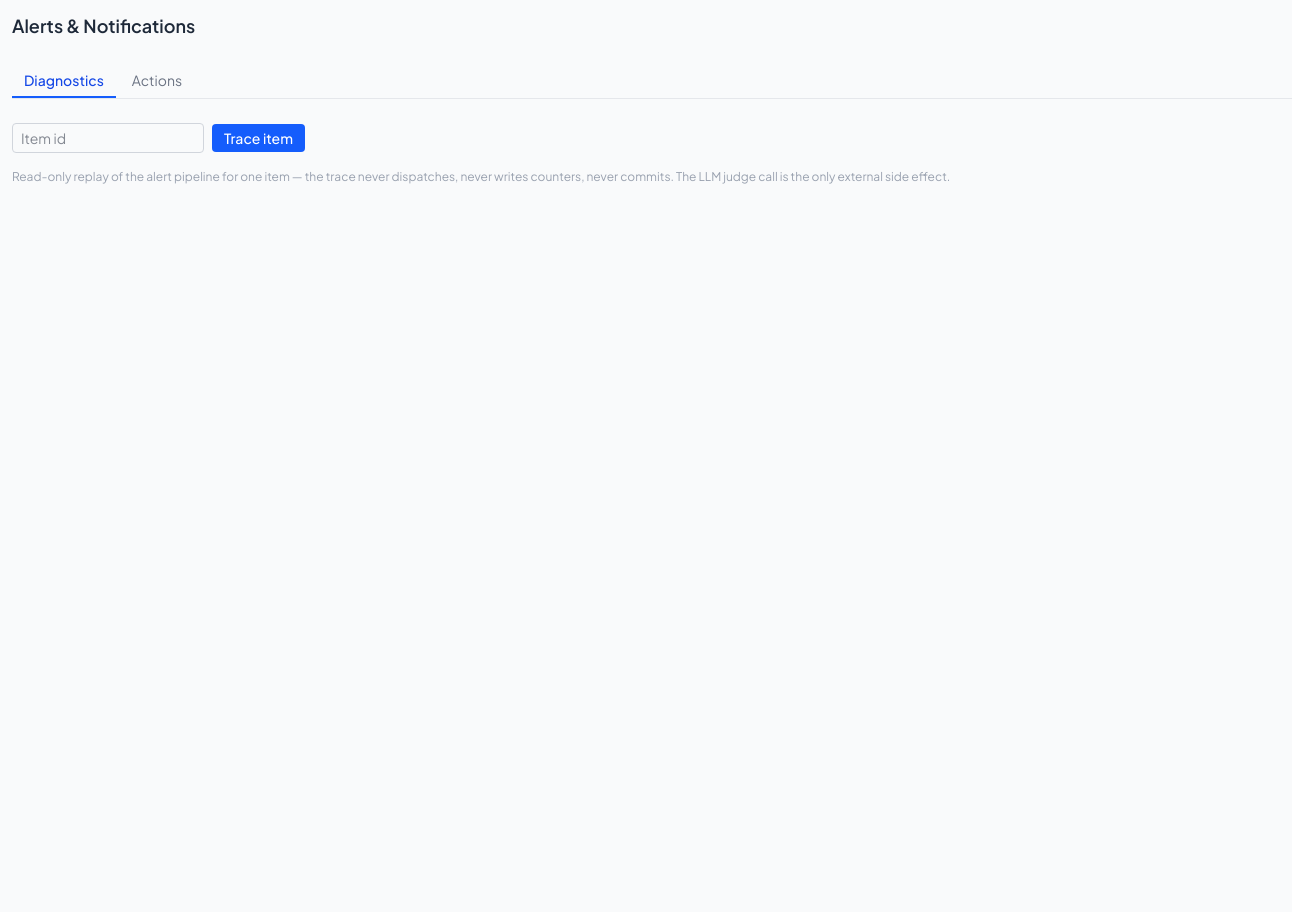
Actions sub-view › documents the dropped verbs as copy, not actions
The width and height of the screenshot is (1292, 912).
Click the button "Actions" at (157, 81), box [120,64,194,98]
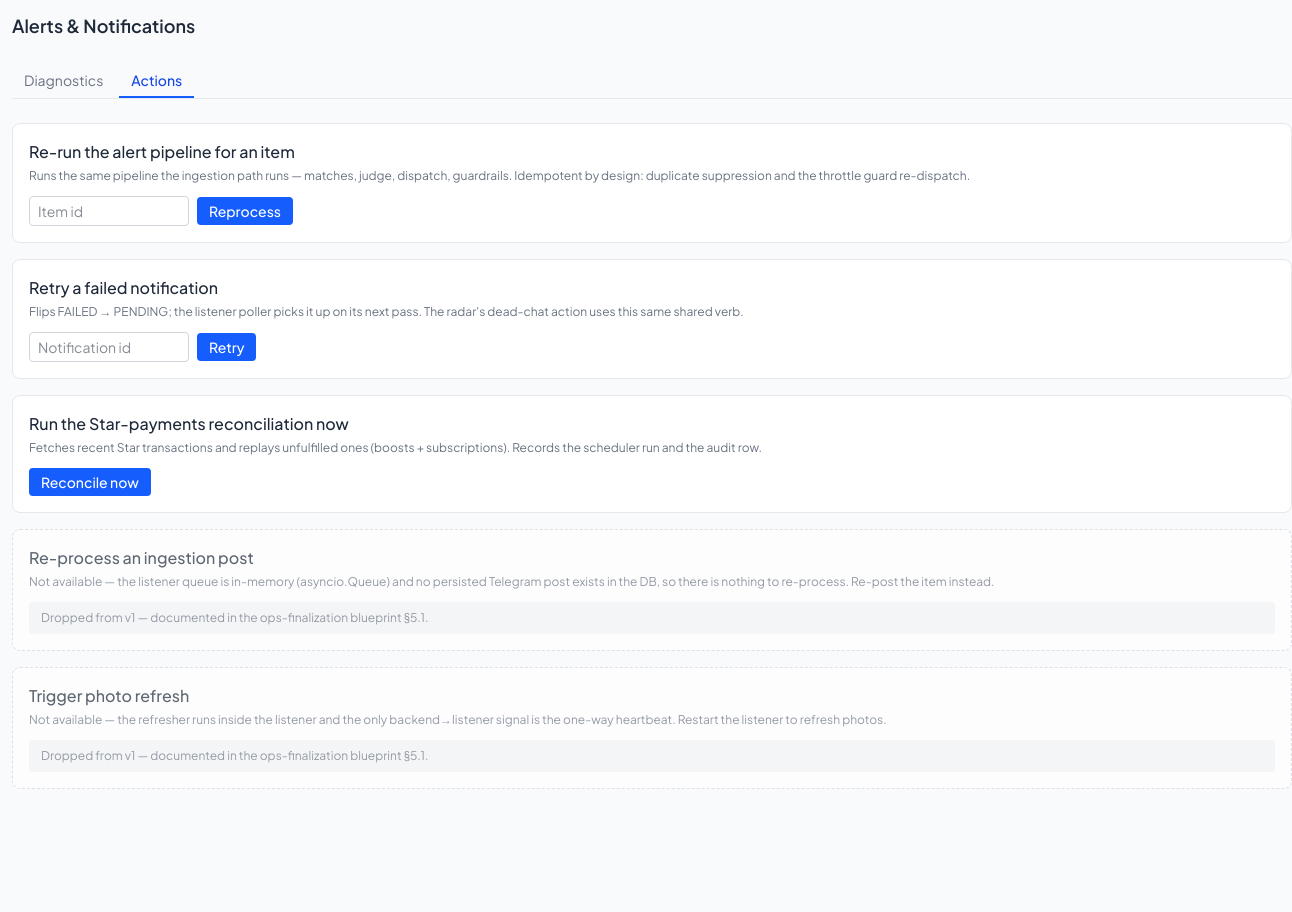
Expected: the text "Re-process an ingestion post" is shown, [29,547,254,568]
Expected: the text "Trigger photo refresh" is shown, [29,685,189,706]
Expected: the text "Dropped from v1" is shown 2 times, [29,602,1275,634]; [29,740,1275,772]
